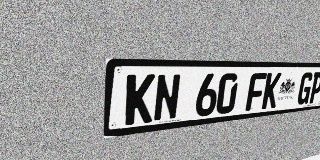0: (215, 73, 239, 115)
6: (194, 73, 220, 117)
F: (245, 73, 267, 111)
G: (296, 72, 314, 105)
K: (125, 74, 155, 125), (261, 73, 282, 109)
N: (153, 74, 181, 122)
P: (308, 72, 320, 104)
